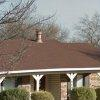Chimney: (28, 24, 52, 44)
